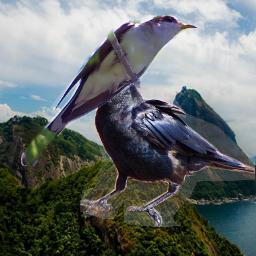Crow: (80, 73, 255, 227)
Cuckoo: (21, 14, 197, 166)
